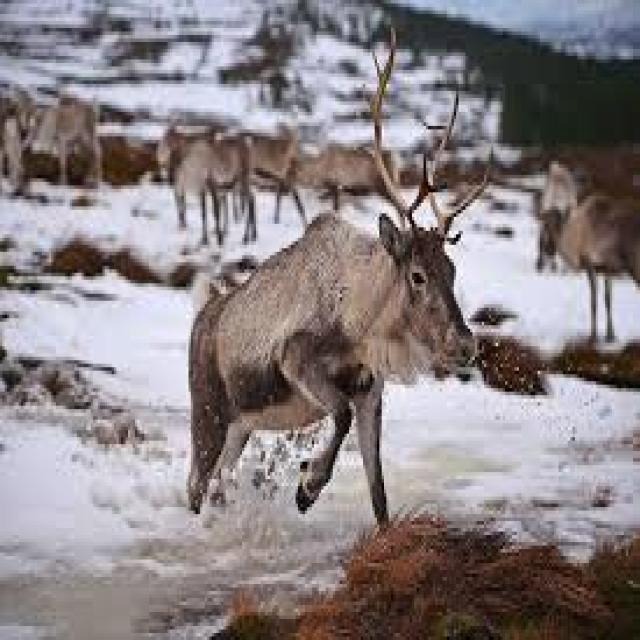Reindeer: (174, 20, 507, 532), (535, 152, 640, 353), (149, 115, 266, 254), (6, 90, 114, 199)
